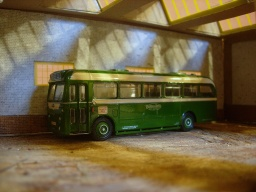bus: (45, 65, 219, 139)
